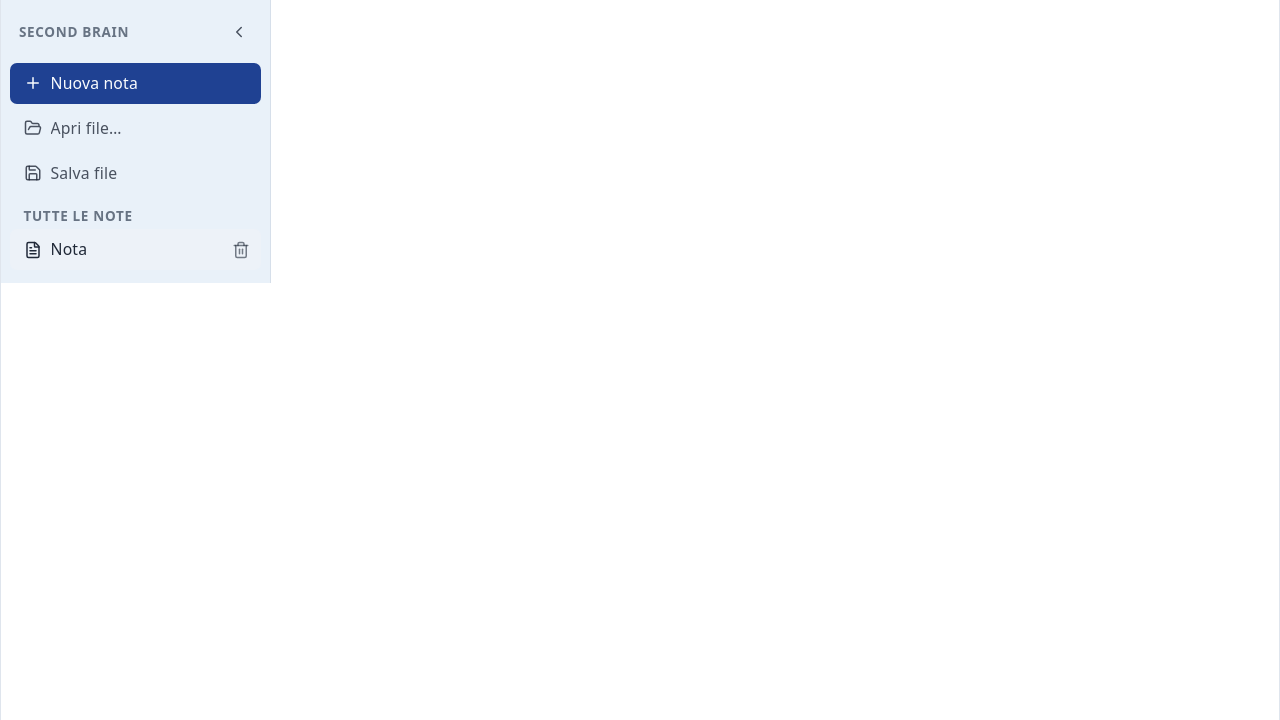
Sidebar — eliminazione nota › annullamento → lista invariata
Click the button named "Elimina «Nota»": (241, 250) [225, 234, 256, 266]
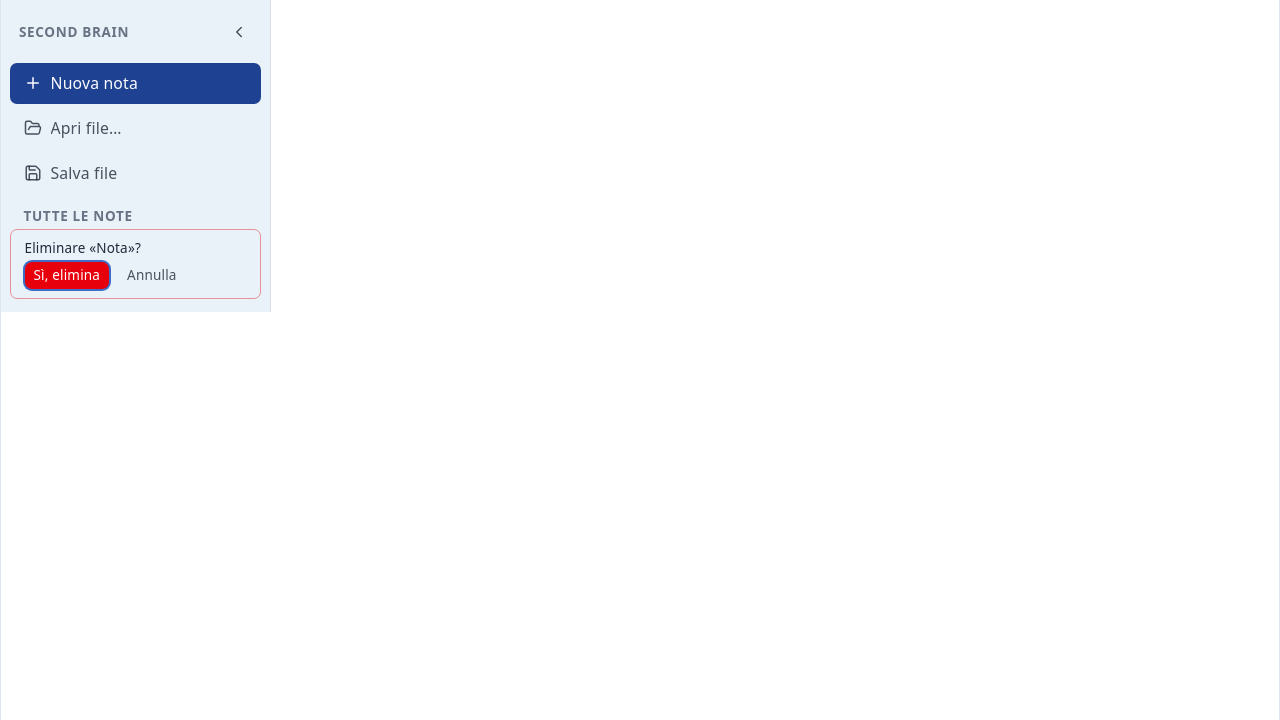
Click the button "Annulla": (152, 276) [118, 262, 186, 289]
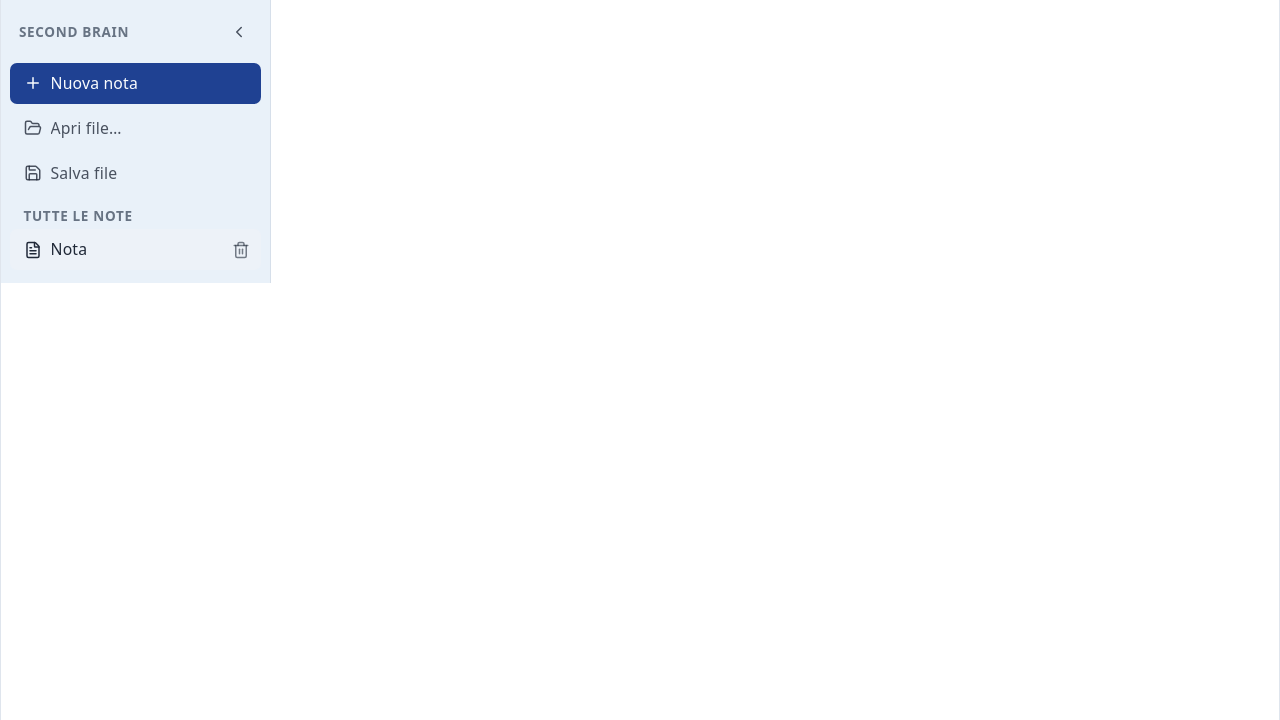
Check: the text "Eliminare «Nota»?" is gone
Check: the button named "Elimina «Nota»" is shown, box [225, 234, 256, 266]
